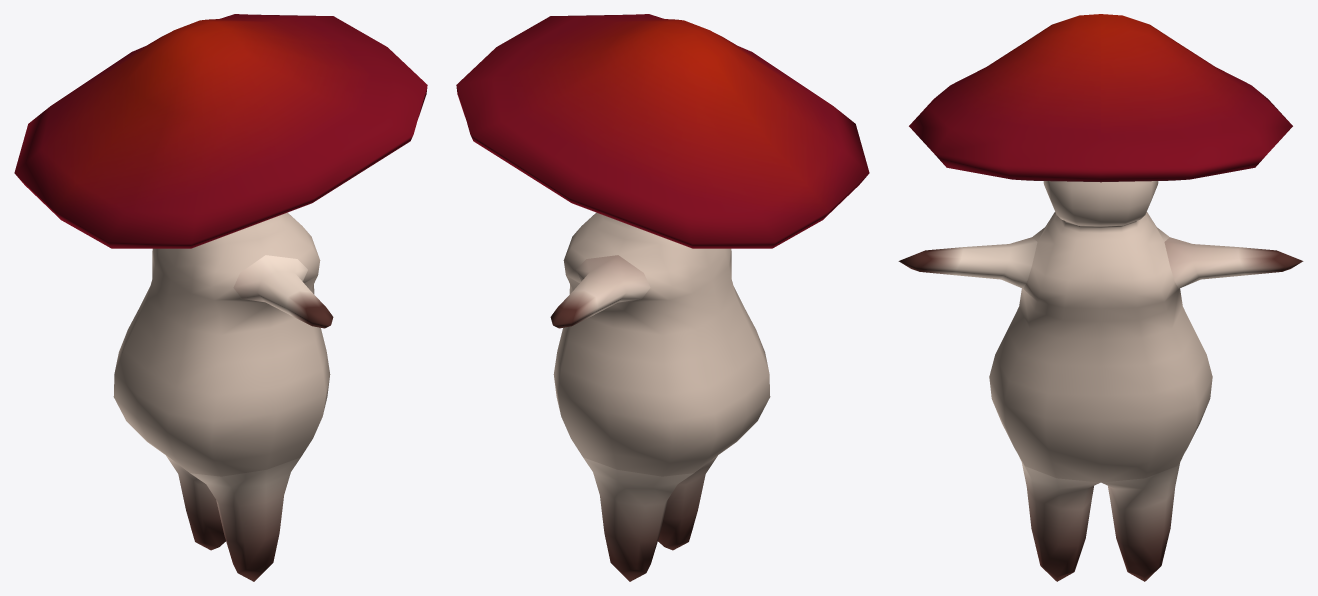
Rendered from MR_-MUSHROOM1.fbx.
3 views of the same model, side by side, from view 1: azimuth 30°, elevation 25°; view 2: azimuth 150°, elevation 25°; view 3: azimuth 270°, elevation 25° (orthographic). The views are drawn at different scales.
Visible parts, largest first — view 1: Lowpolly; view 2: Lowpolly; view 3: Lowpolly.
Boxes of the visible parts, x1=… form: Lowpolly: x1=14, y1=14, x2=427, y2=581; Lowpolly: x1=456, y1=14, x2=869, y2=581; Lowpolly: x1=898, y1=14, x2=1303, y2=581.
Size of the model in its own units: 401 by 614 by 410.
1 material, 1 textured.
